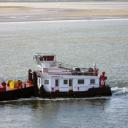tugboat: (28, 52, 114, 102)
